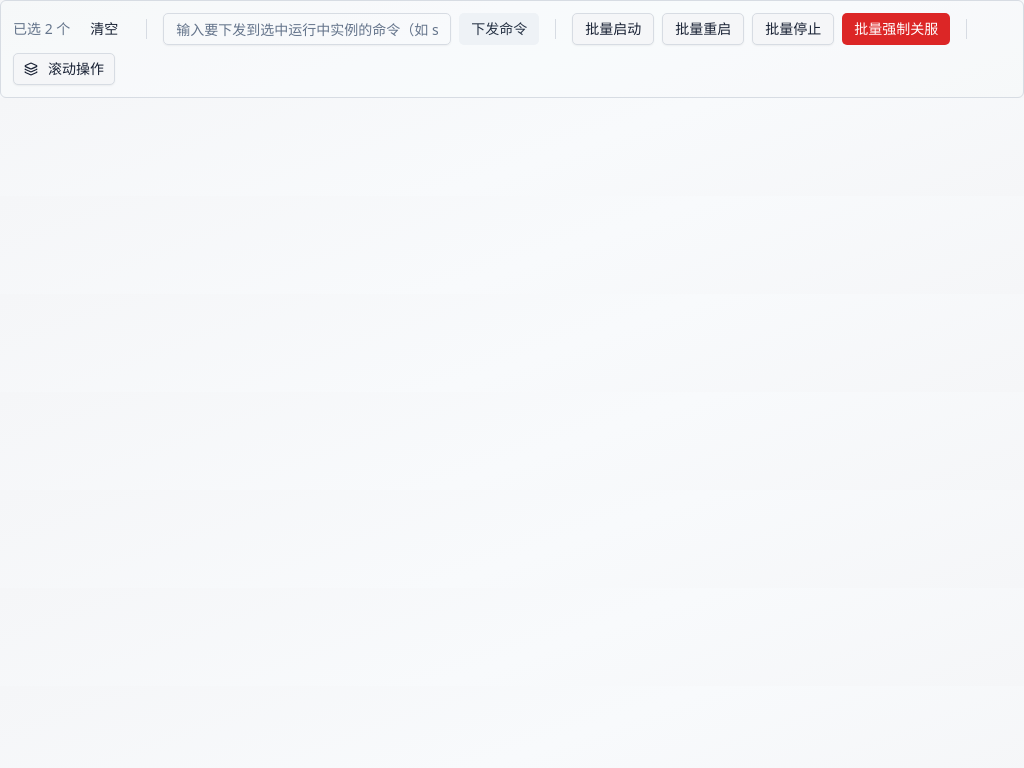
Test case: InstanceBatchBar（FR-058 实例批量操作） › 部分失败时列出失败实例并保留失败项供重试
This screenshot has width=1024, height=768.
Type "say partial" into the field with placeholder "输入要下发到选中运行中实例的命令（如 say hello）" at (307, 29), box [163,13,451,45]
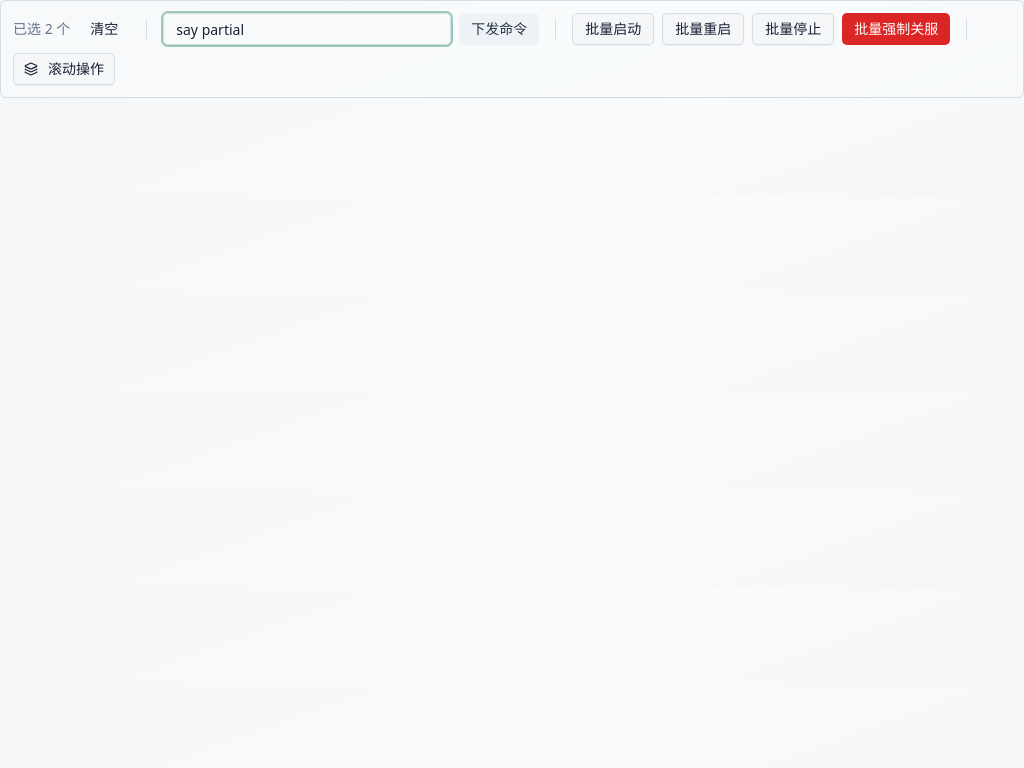
Click the button "下发命令" at (499, 29), box [459,13,539,45]
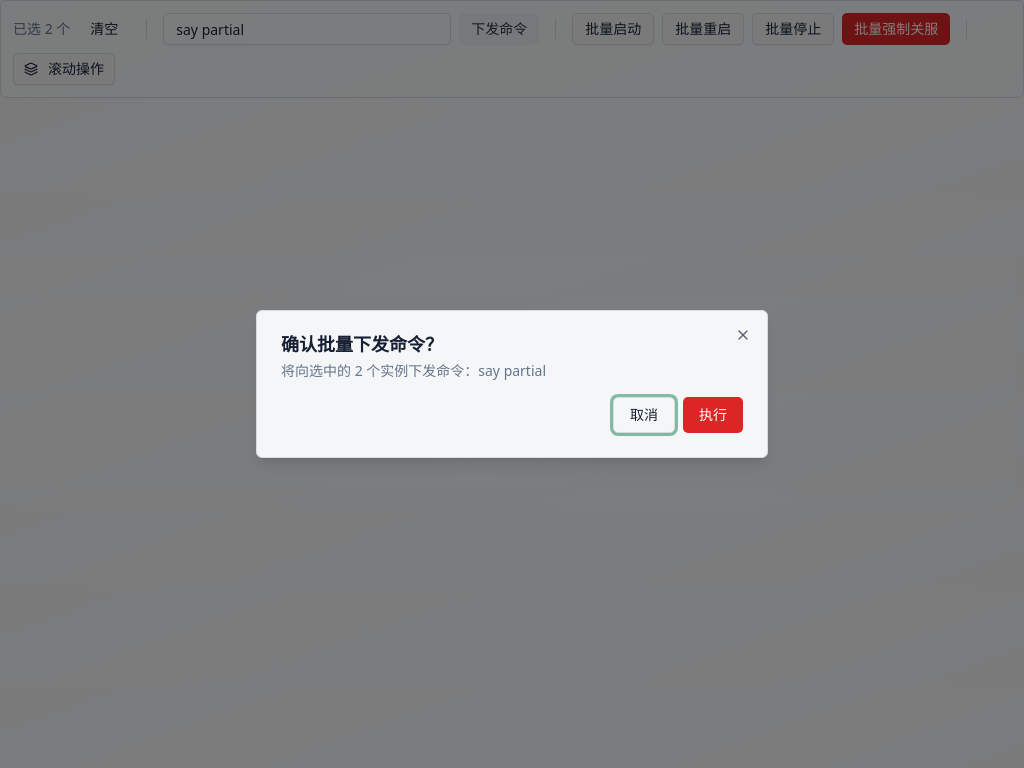
Click the button "执行" at (713, 415), box [683,397,743,433]
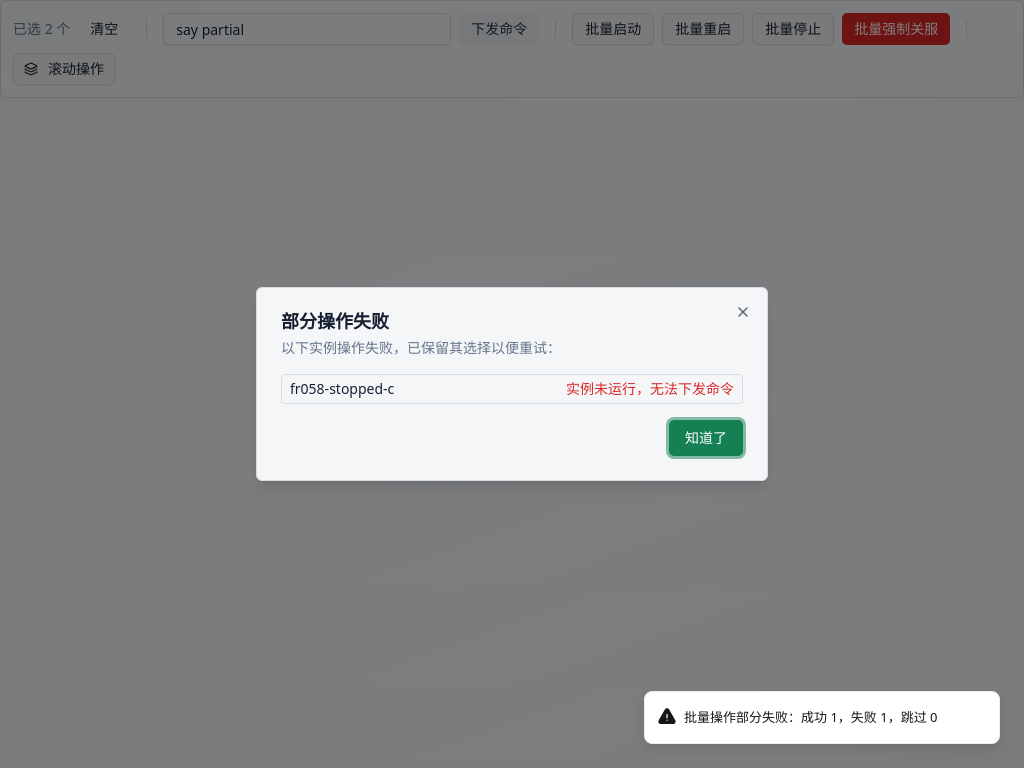
Now the text "fr058-stopped-c" is shown, box [290,379,394,399]
Now the text "实例未运行，无法下发命令" is shown, box [566,379,734,399]
